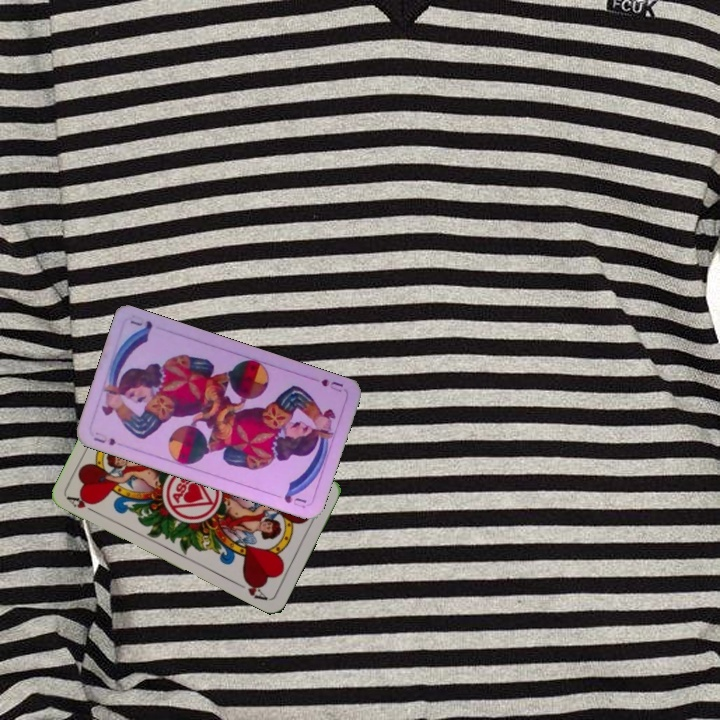HA: (64, 491, 102, 517)
SU: (307, 373, 346, 395), (89, 433, 118, 448)
